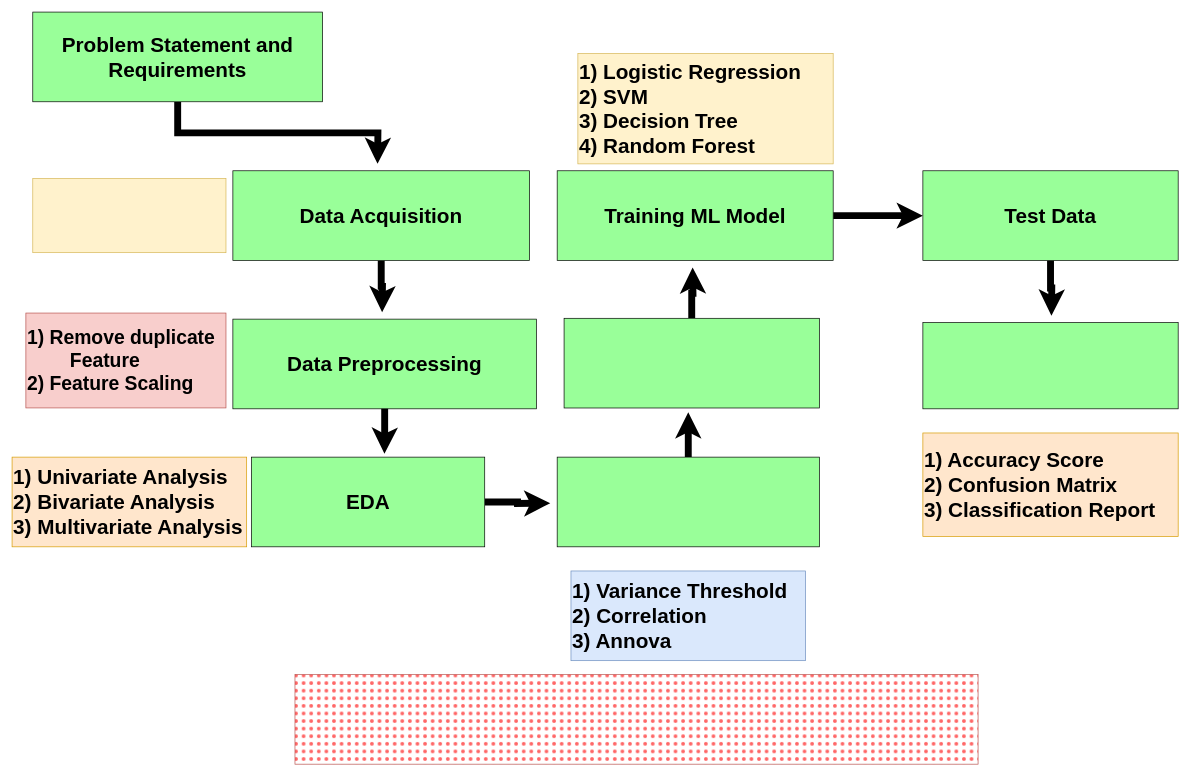
This 1190x776 diagram has some shape labels left out. Here are the shapes that lost their labels. From the top down, the box of each, then its label:
(32, 178, 226, 253): Kaggle, UCI ML repository
(563, 318, 819, 408): Training Data
(922, 322, 1178, 409): Evaluation Of ML model
(556, 456, 819, 547): Feature Selection
(294, 674, 978, 764): Frame Work For Project
